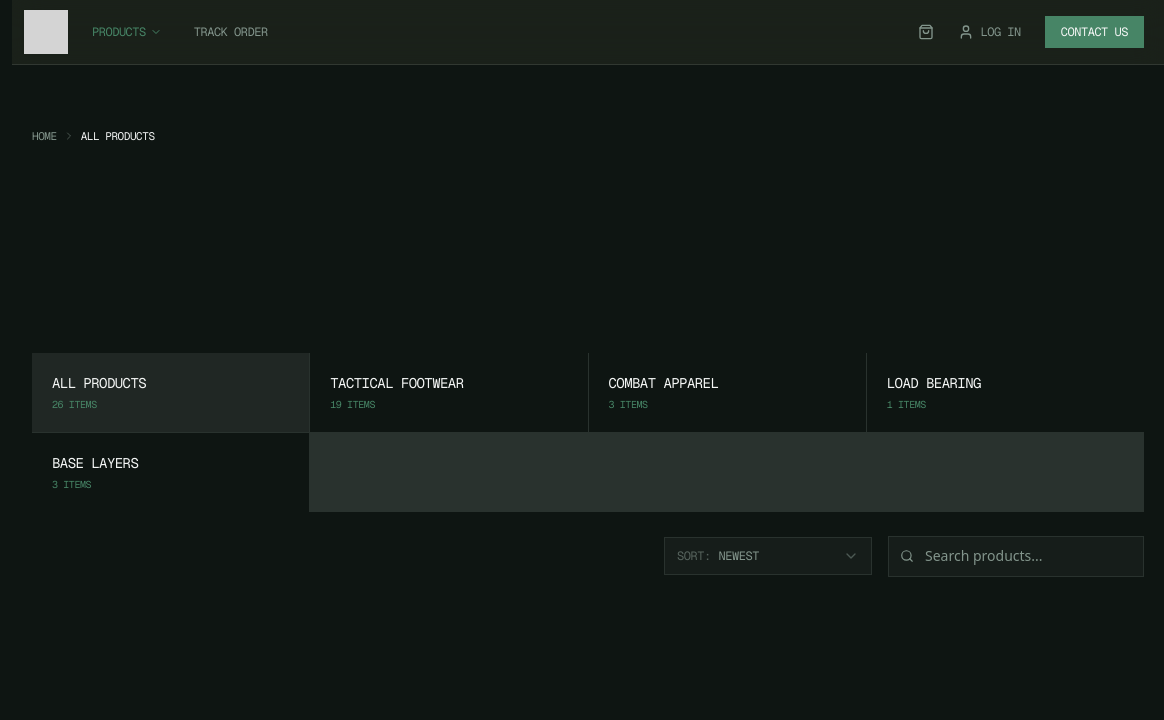
it: Products page › filters by category and sub-category, keeping filters in the URL
Click the button "Combat Apparel 3 items". click: (727, 393)
box: [588,353,866,432]
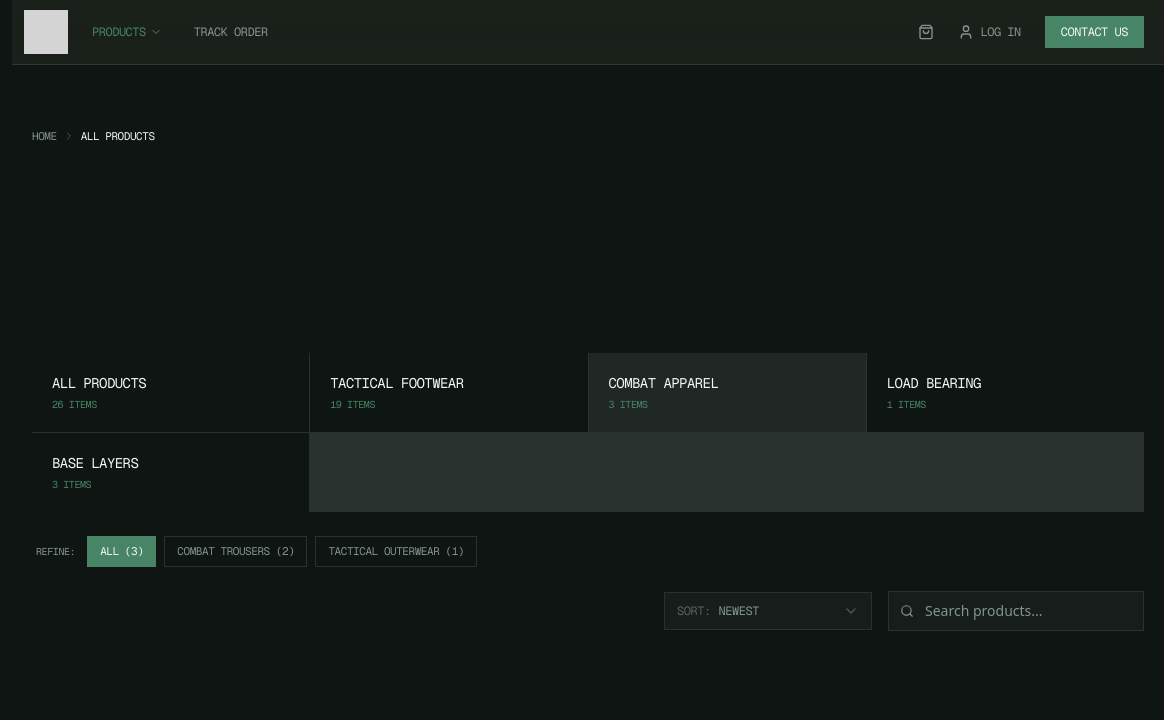
Click the button "Combat Trousers (2)". click: (236, 552)
box: [164,536,308,567]
(page scrolled)
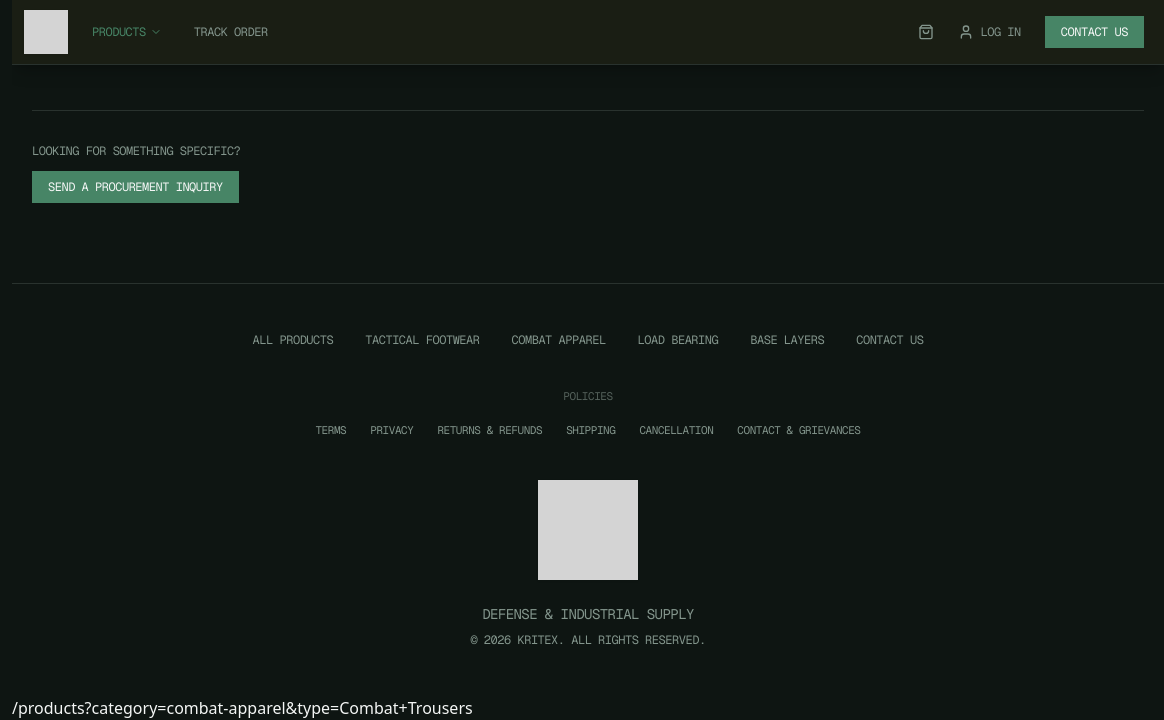
Now the text with test id "location" shows "type=Combat+Trousers", box [12,697,473,719]
